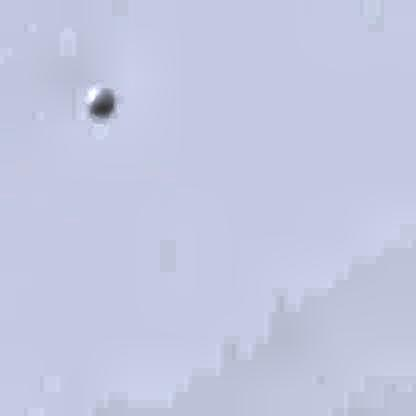golfball: (84, 82, 114, 113)
